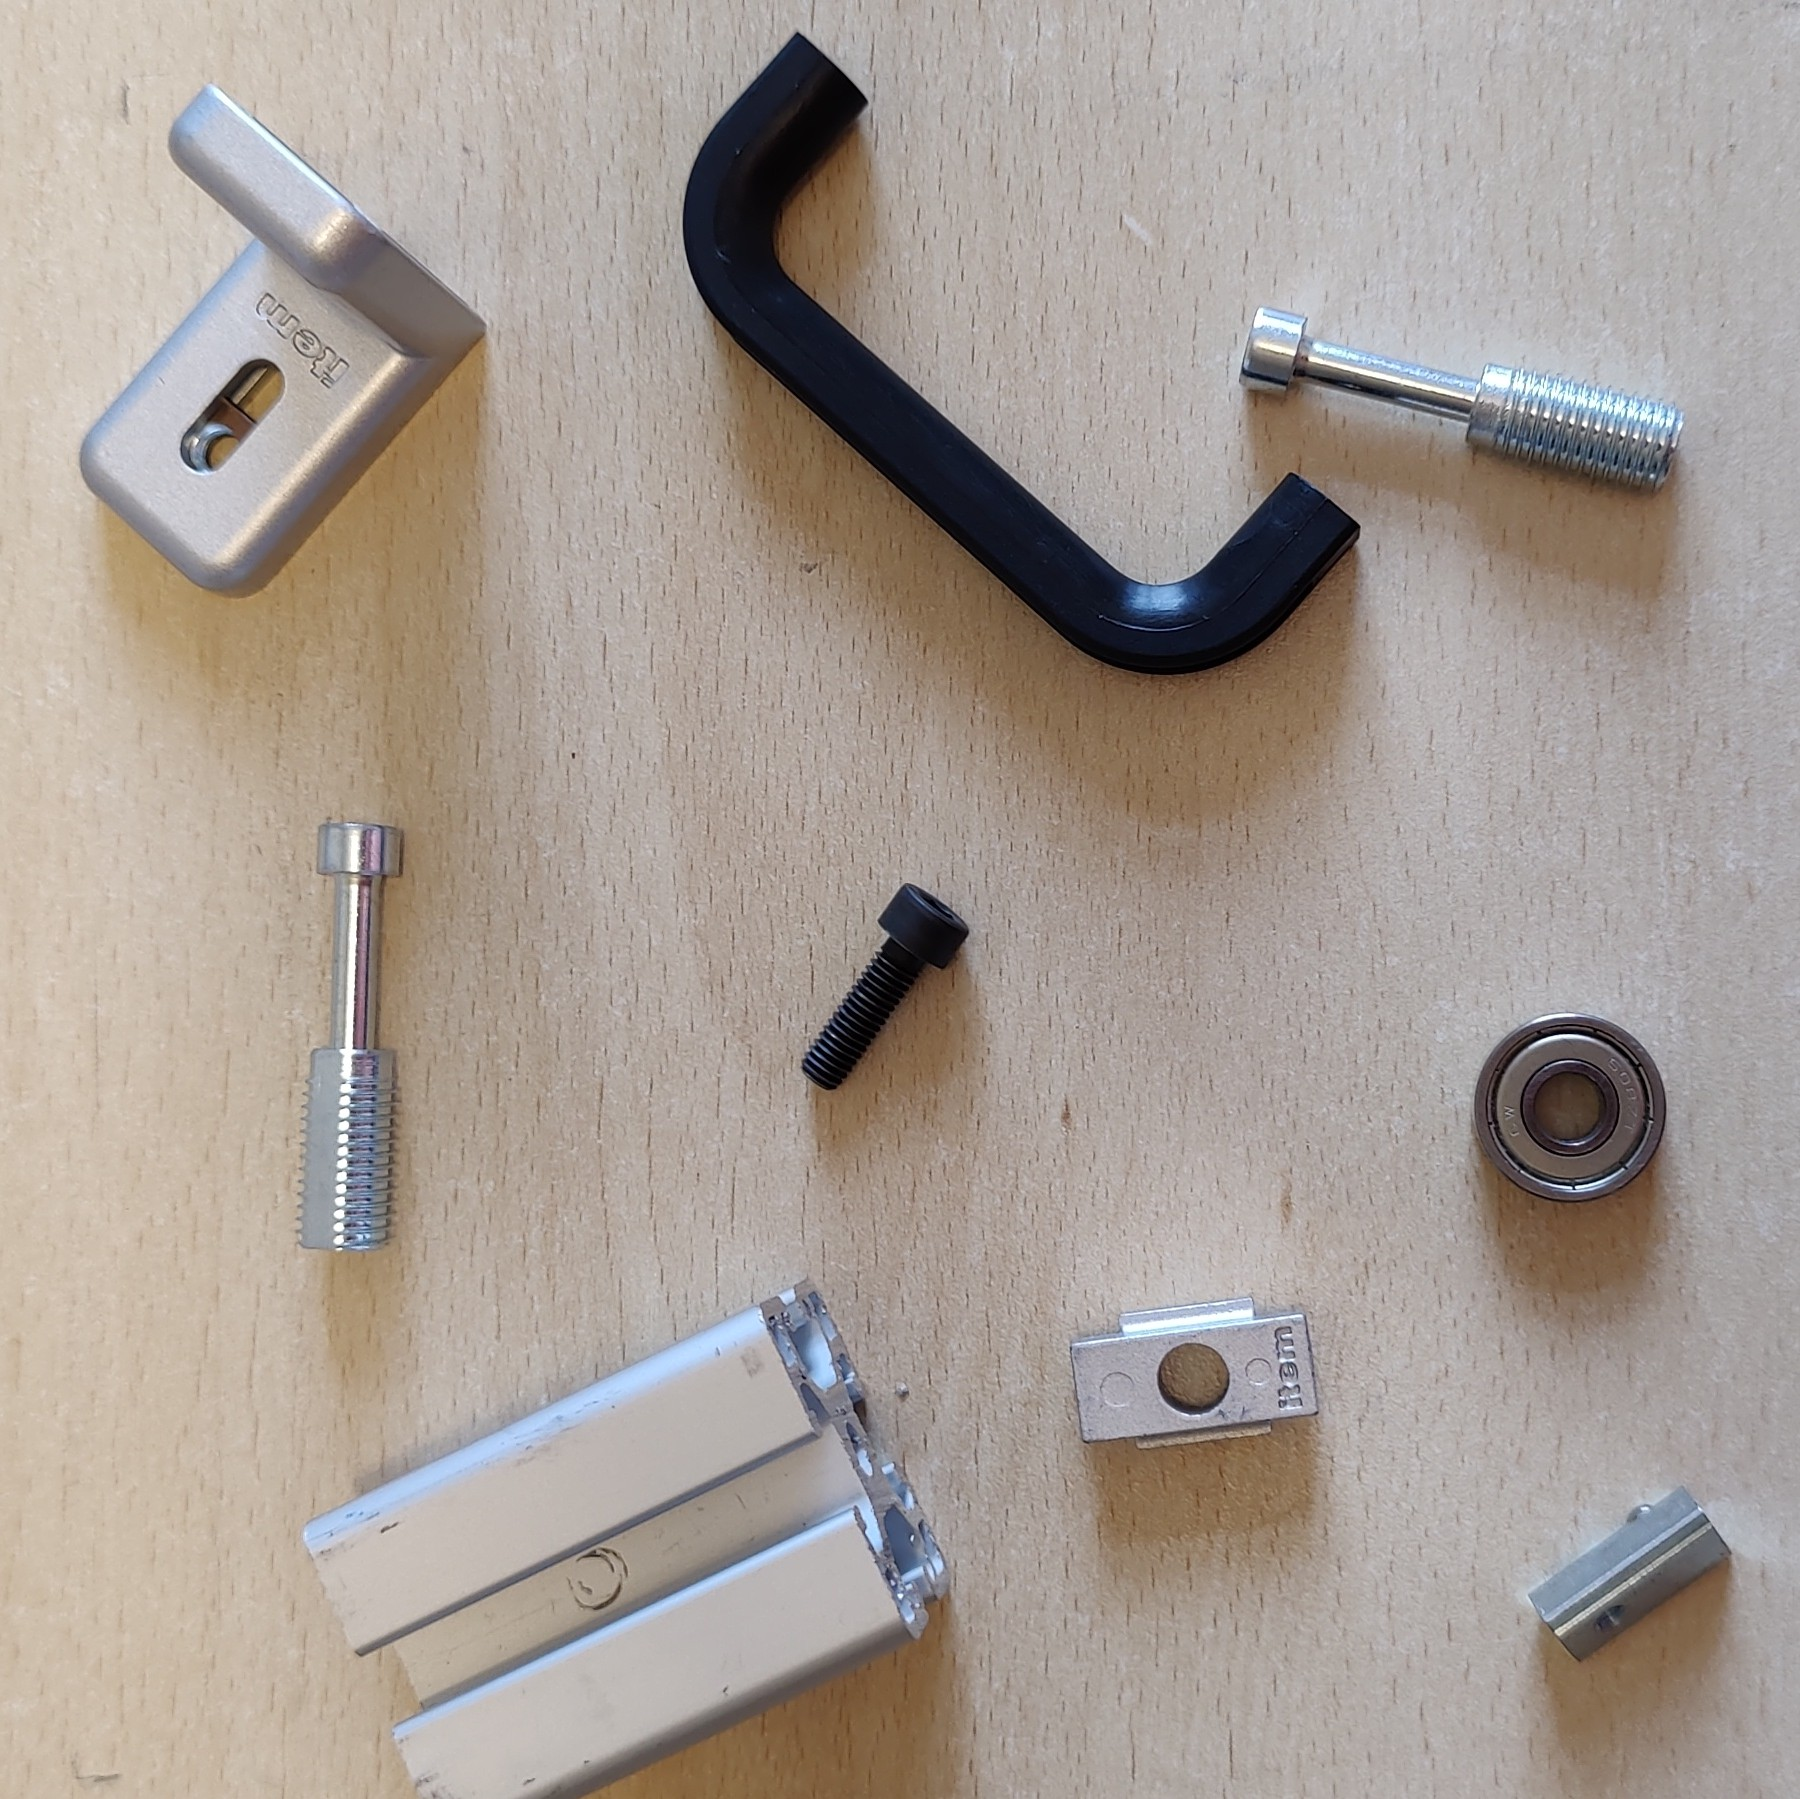Aluminium Extension: (298, 1272, 954, 1799)
Ball Bearing: (1472, 1012, 1668, 1206)
Multiwinkel: (79, 79, 489, 600)
Pull Handle: (682, 26, 1362, 677)
Shoulder Socket Head Cap Screw: (1237, 303, 1688, 499), (291, 817, 405, 1255)
Socket Head Cap Screw: (799, 880, 972, 1092)
T Nut Square: (1070, 1292, 1324, 1453)
T Spring Nut: (1525, 1479, 1736, 1667)
